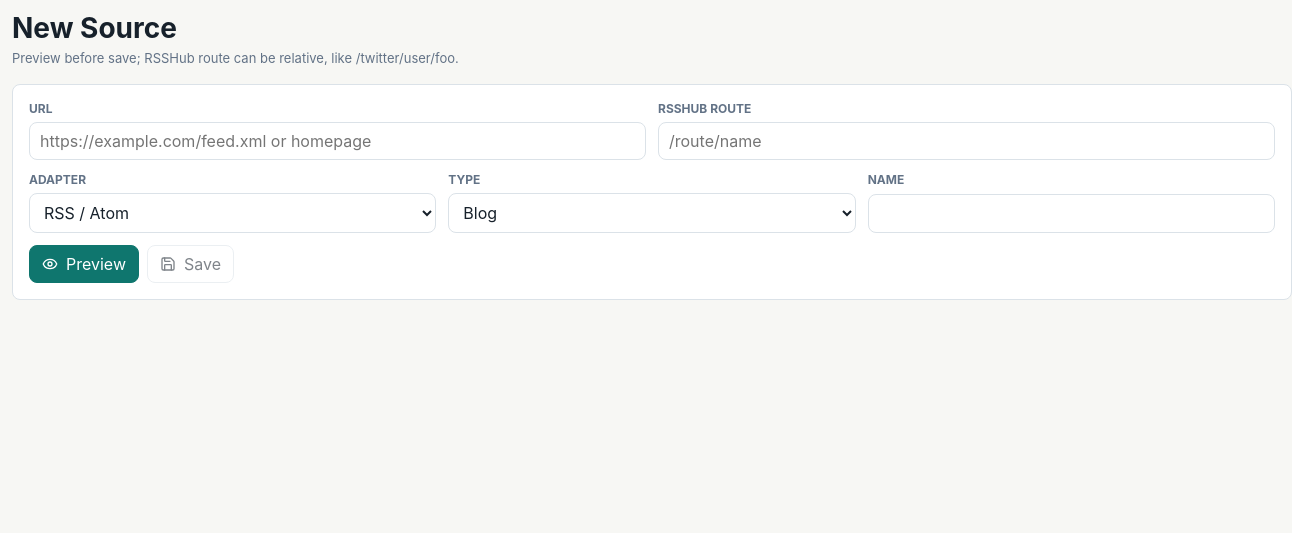
Test: NewSourcePage › supports RSSHub route sources and save failures
The width and height of the screenshot is (1292, 533).
Type "/twitter/user/openai" into the field labelled "RSSHub route". click: {"x": 966, "y": 141}
box: [658,122,1275,160]
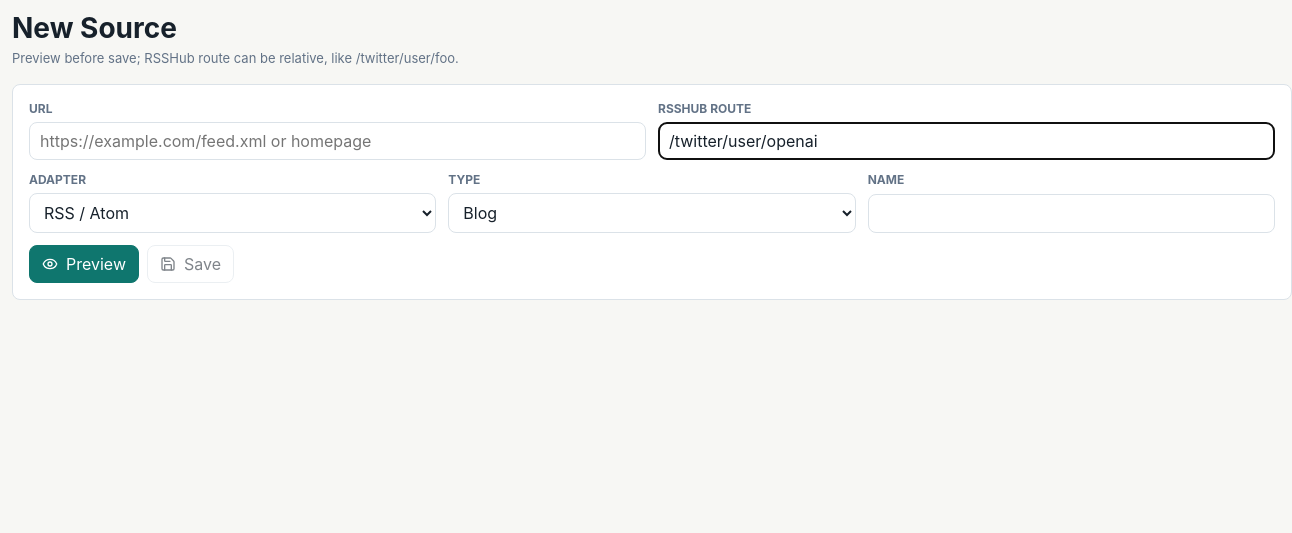
Select "RSSHub" in the dropdown labelled "Adapter". click: {"x": 233, "y": 213}
box: [29,193,436,233]
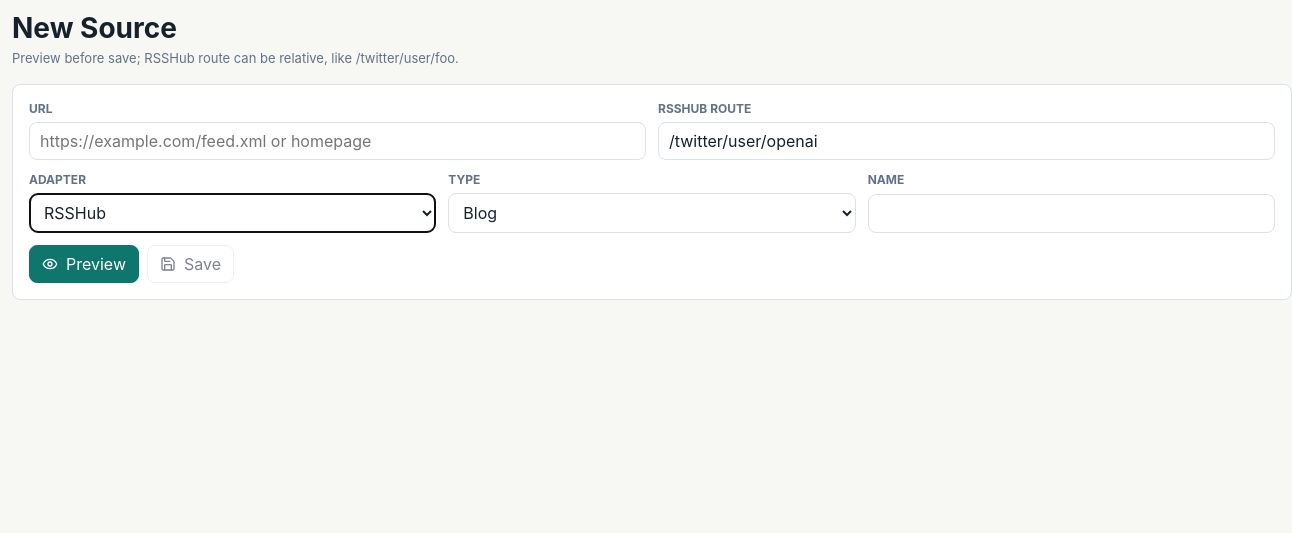
Select "Post" in the dropdown labelled "Type". click: {"x": 652, "y": 213}
box: [448,193,856,233]
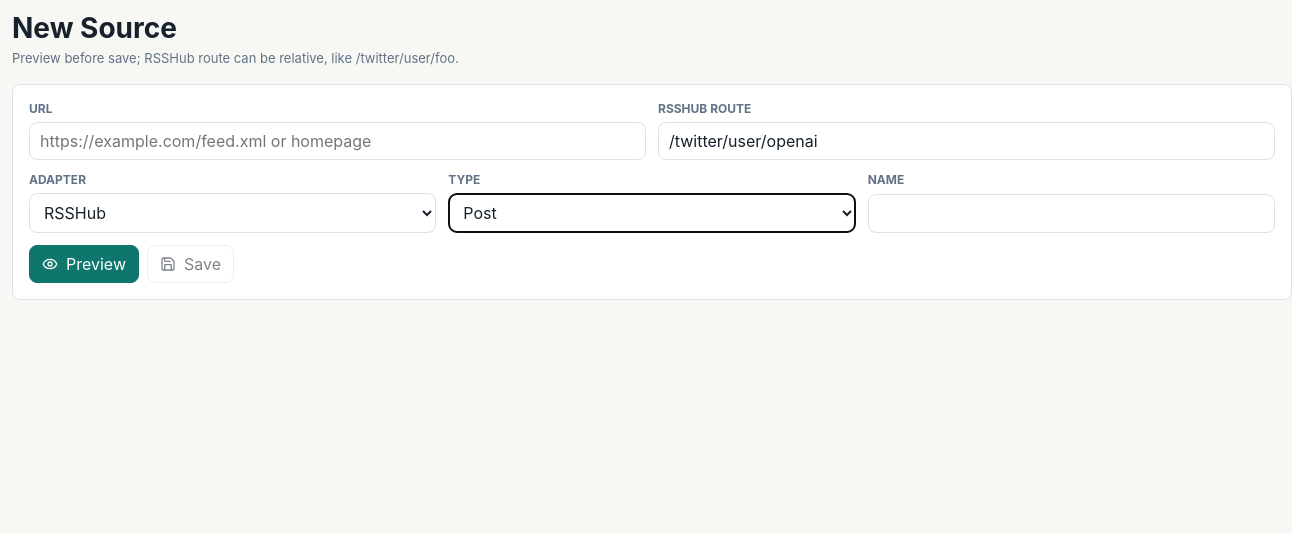
Click the button "Preview". click: {"x": 84, "y": 264}
box: [29,245,139,283]
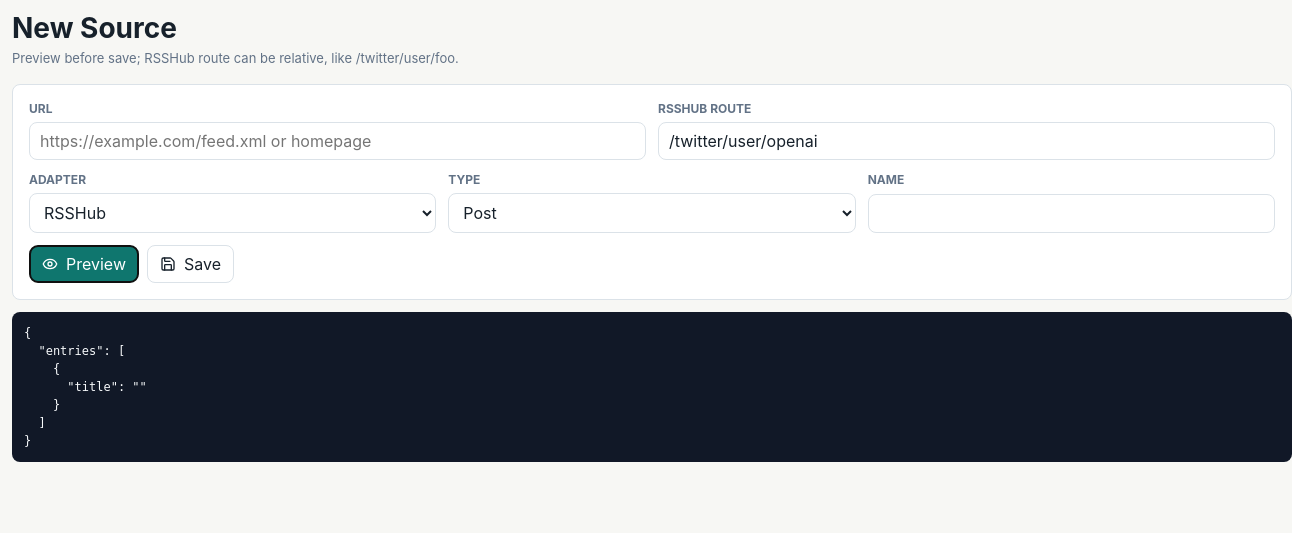
Click the button "Save". click: {"x": 190, "y": 264}
box: [147,245,234,283]
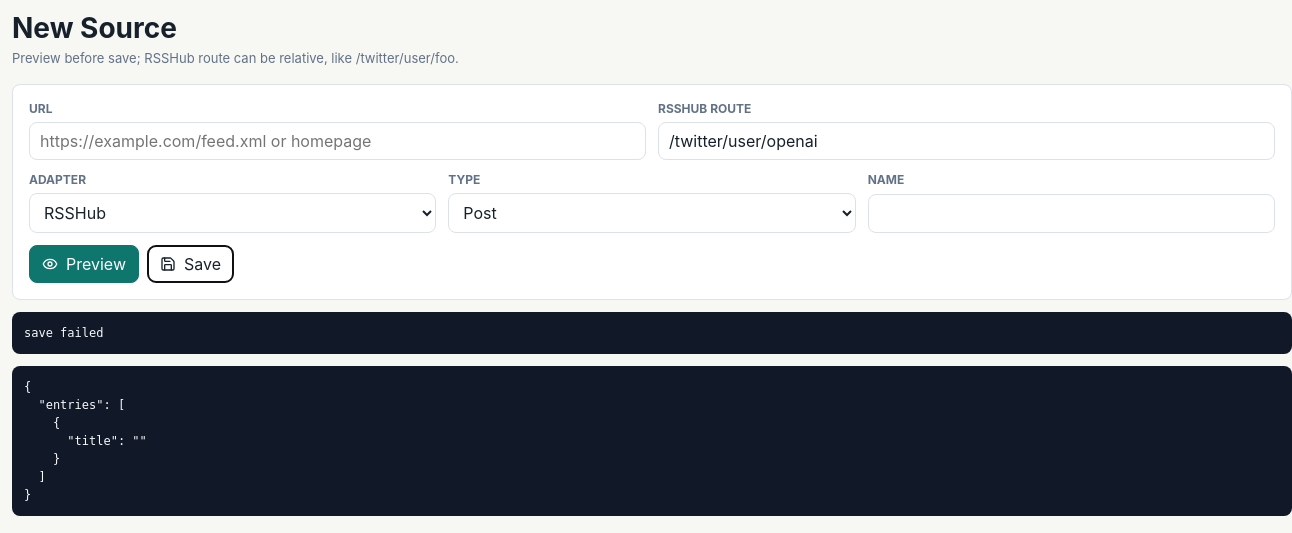
Now the text "save failed" is shown, box [12,312,1291,354]
